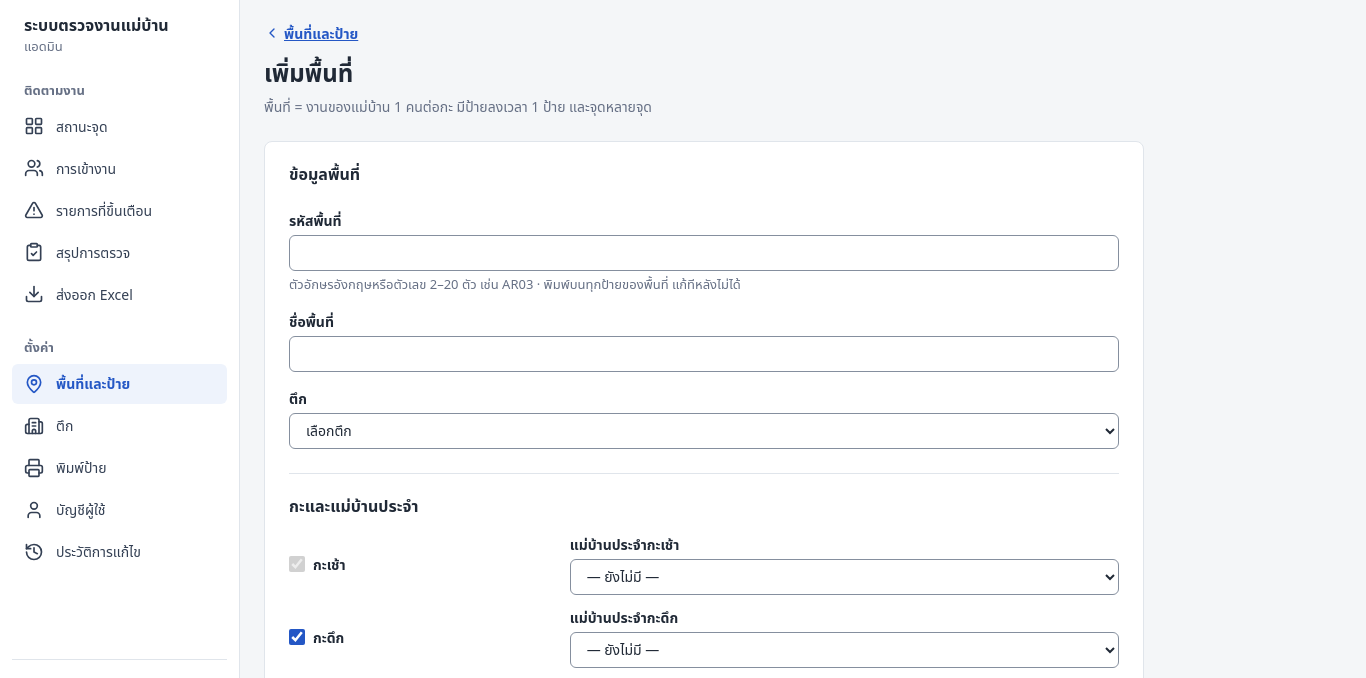
Test case: AreaFormPage (D10, facility-0045) › shows the server’s refusal and stays on the form
The width and height of the screenshot is (1366, 678).
Type "AR01" into the field labelled "รหัสพื้นที่" at {"x": 704, "y": 253}, box [289,235,1119,271]
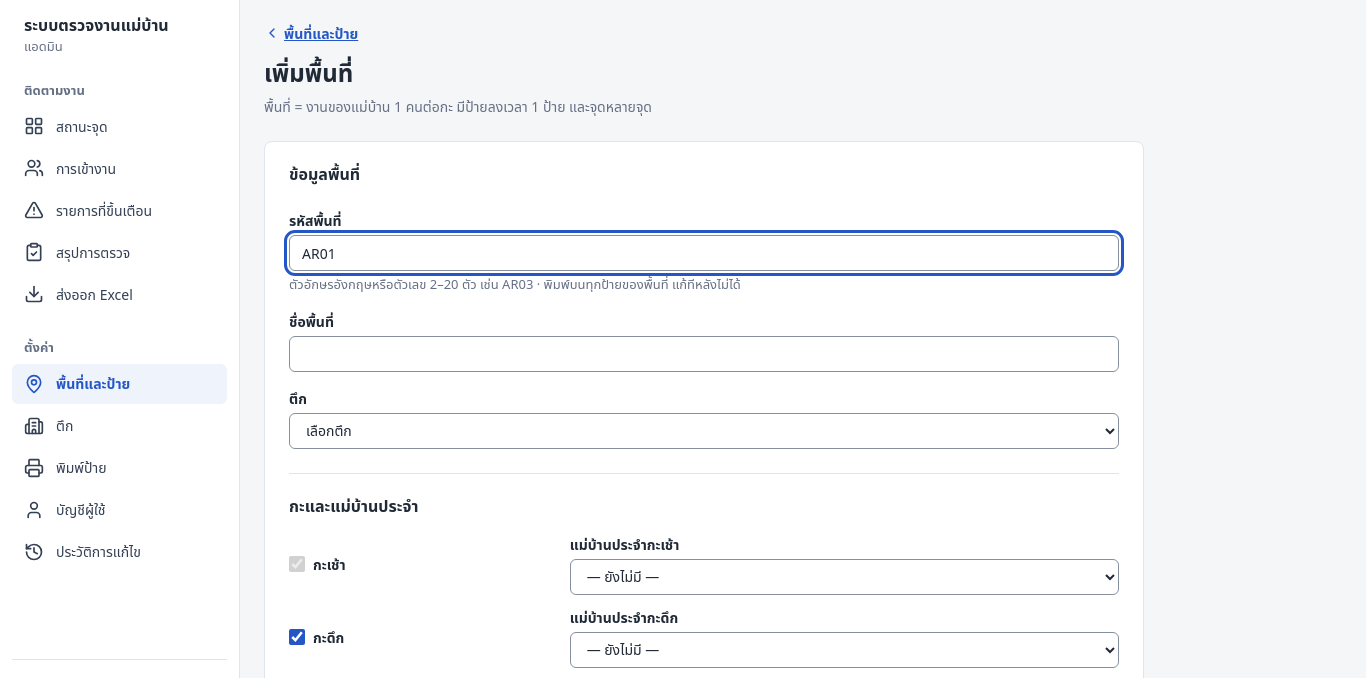
Type "Area ซ้ำ" into the field labelled "ชื่อพื้นที่" at {"x": 704, "y": 354}, box [289,336,1119,372]
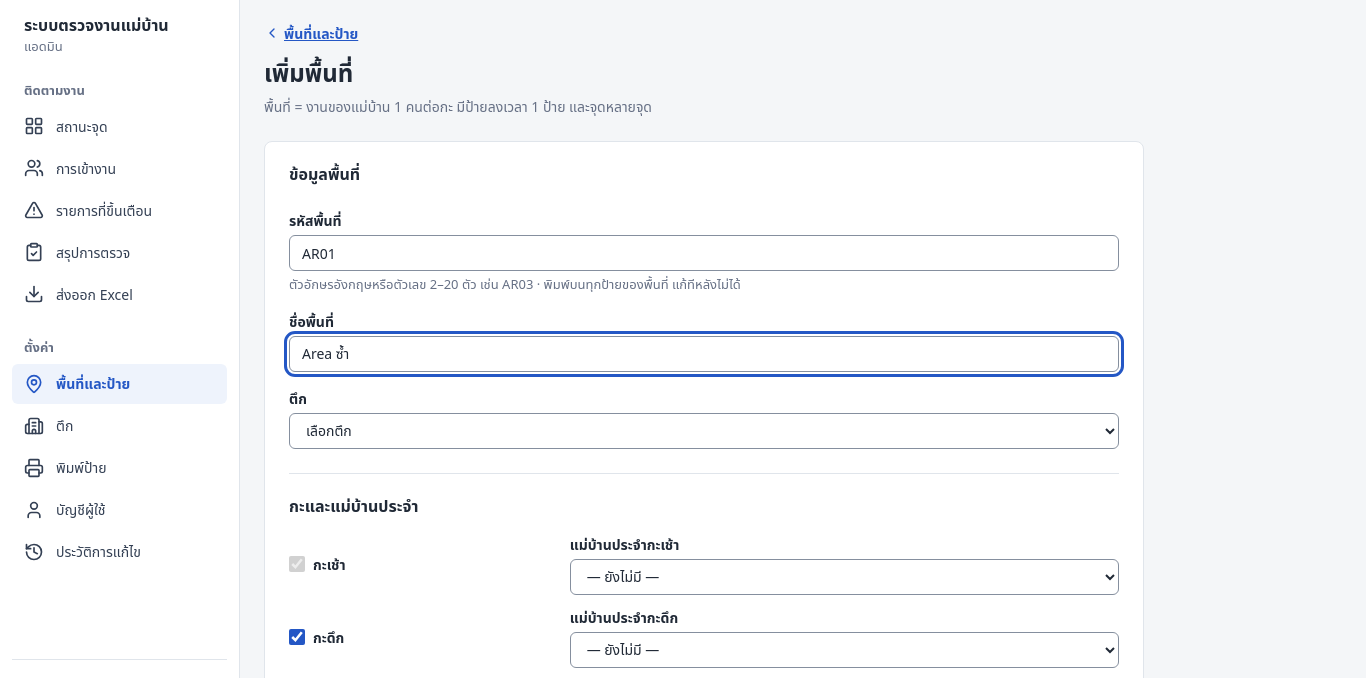
Select "A · ตึกทดลอง" in the dropdown labelled "ตึก" at {"x": 704, "y": 431}, box [289,413,1119,449]
(page scrolled)
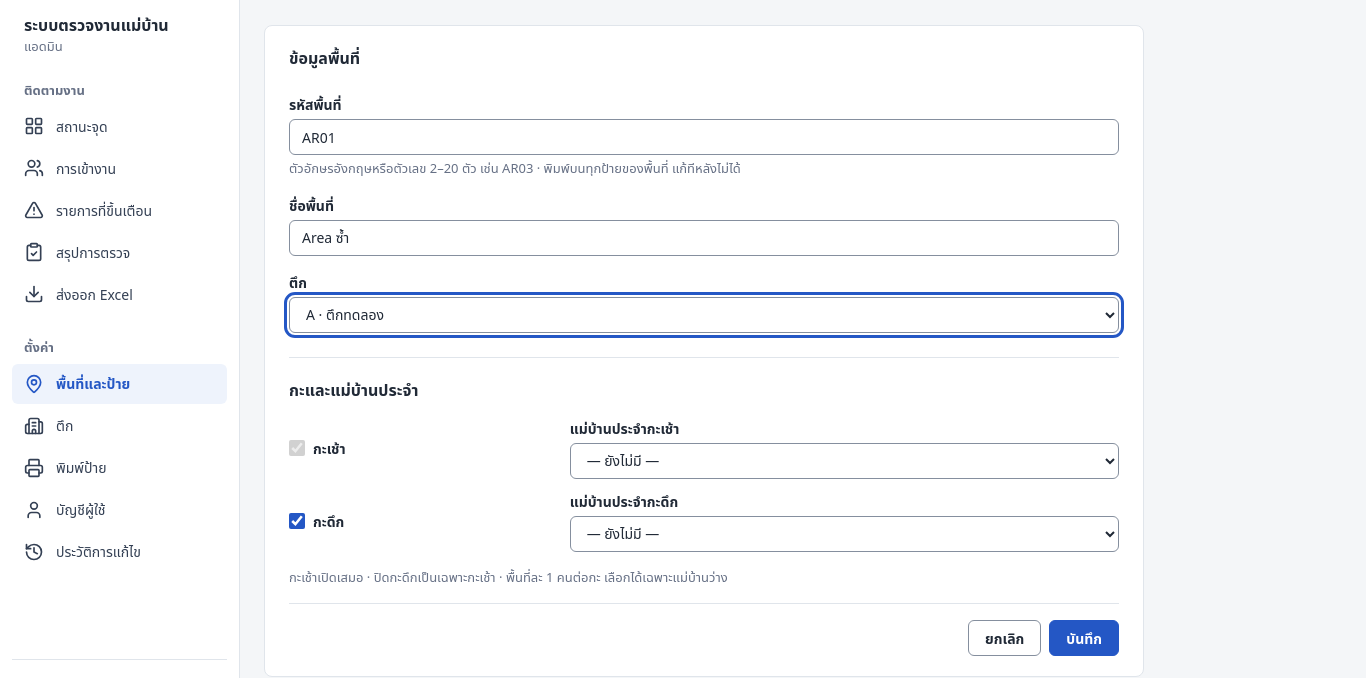
Click the button "บันทึก" at {"x": 1084, "y": 638}, box [1049,620,1119,656]
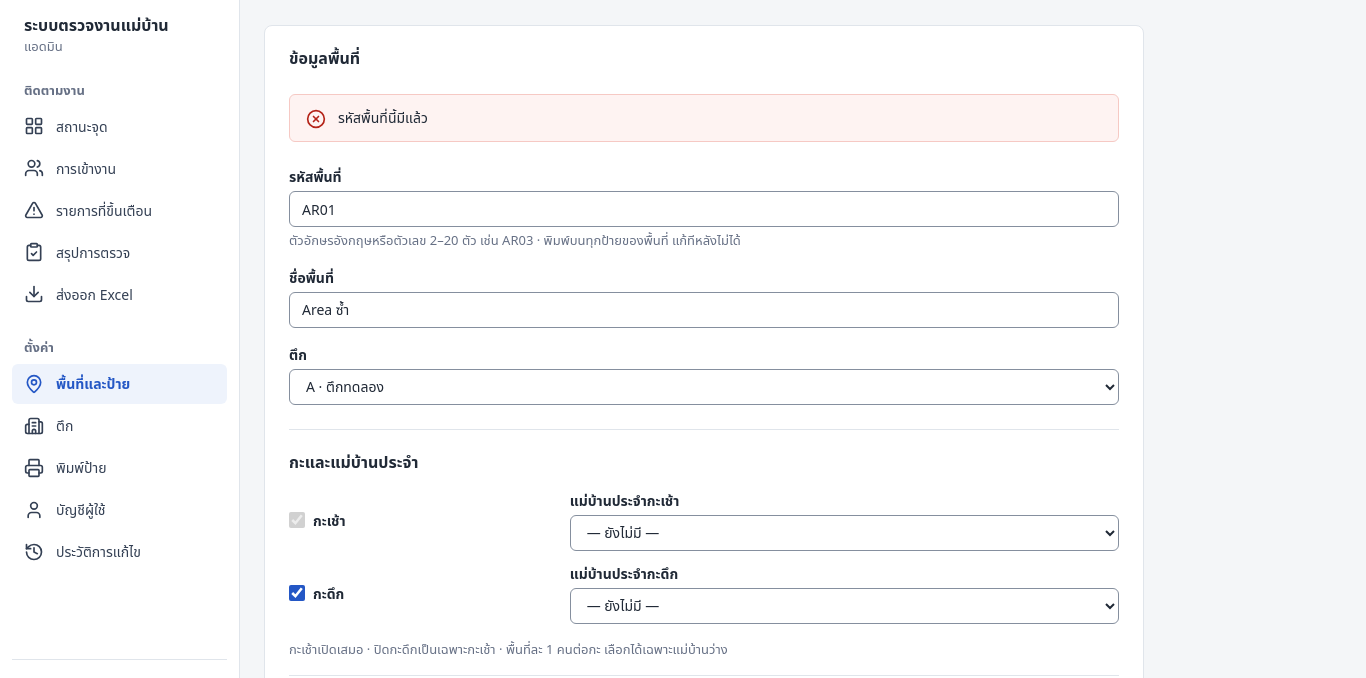
Result: the message reads "รหัสพื้นที่นี้มีแล้ว" at [338,108,428,127]
